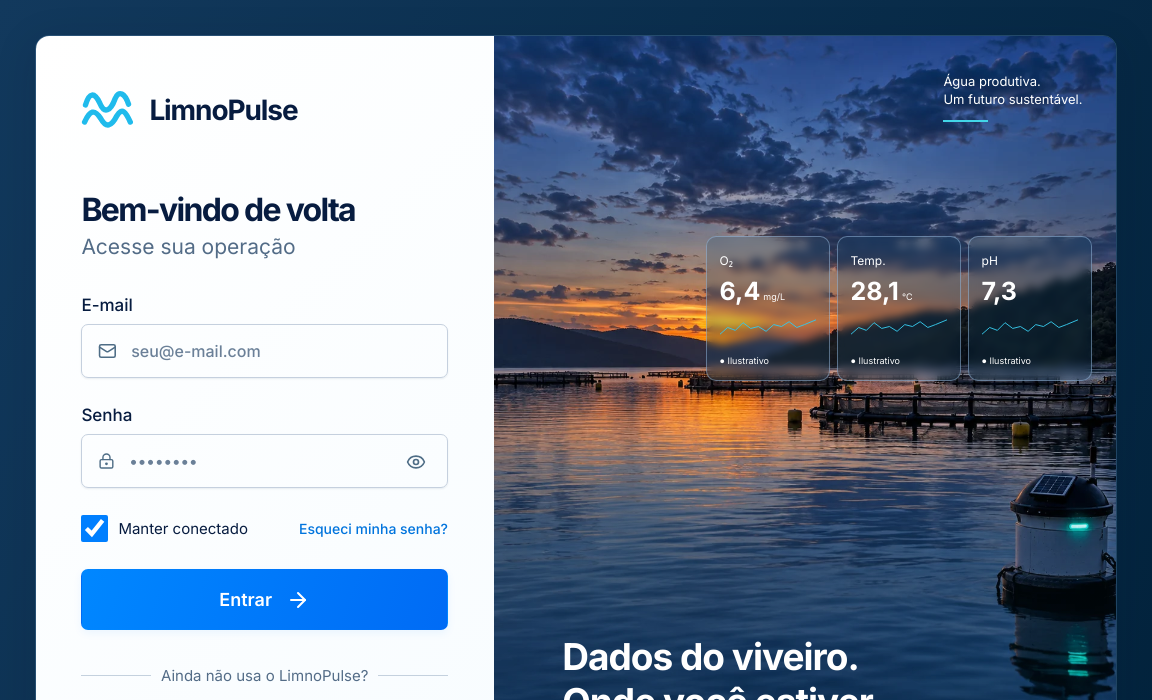
Test: recovers the password and confirms a new password without creating an account
The image size is (1152, 700).
Click the button "Esqueci minha senha?" at [374, 529], box [299,519,448,539]
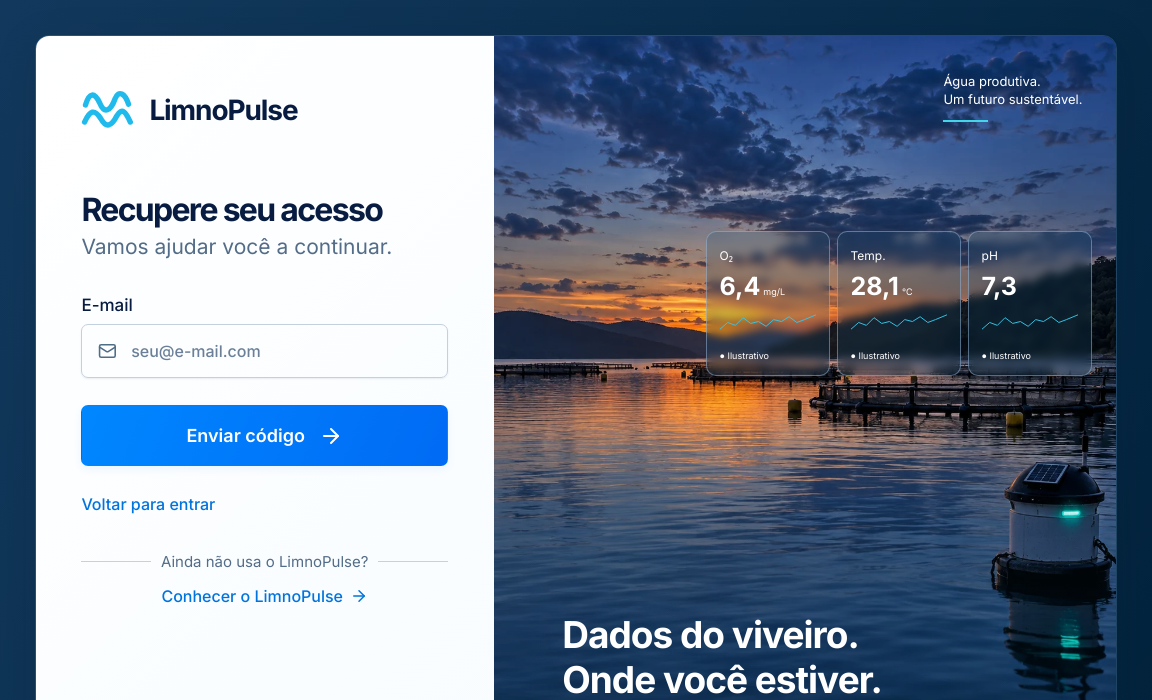
Type "maria@example.com" into the field labelled "E-mail" at [274, 351], box [117,325,431,377]
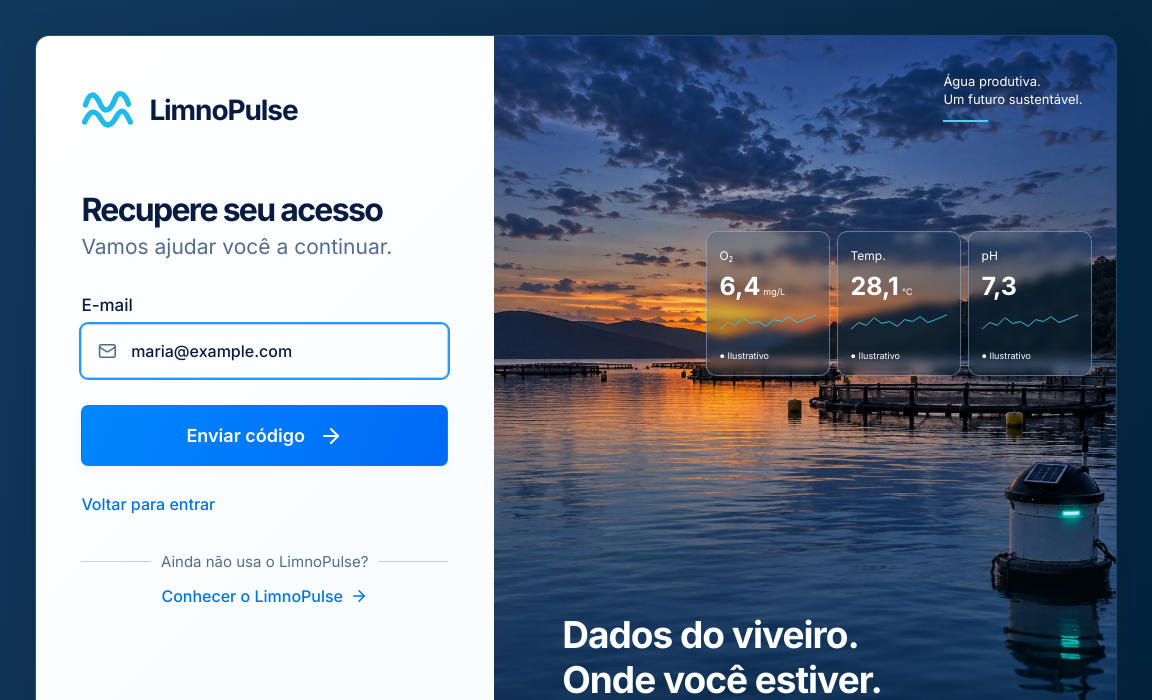
Click the button "Enviar código" at [265, 436], box [81,405,448,466]
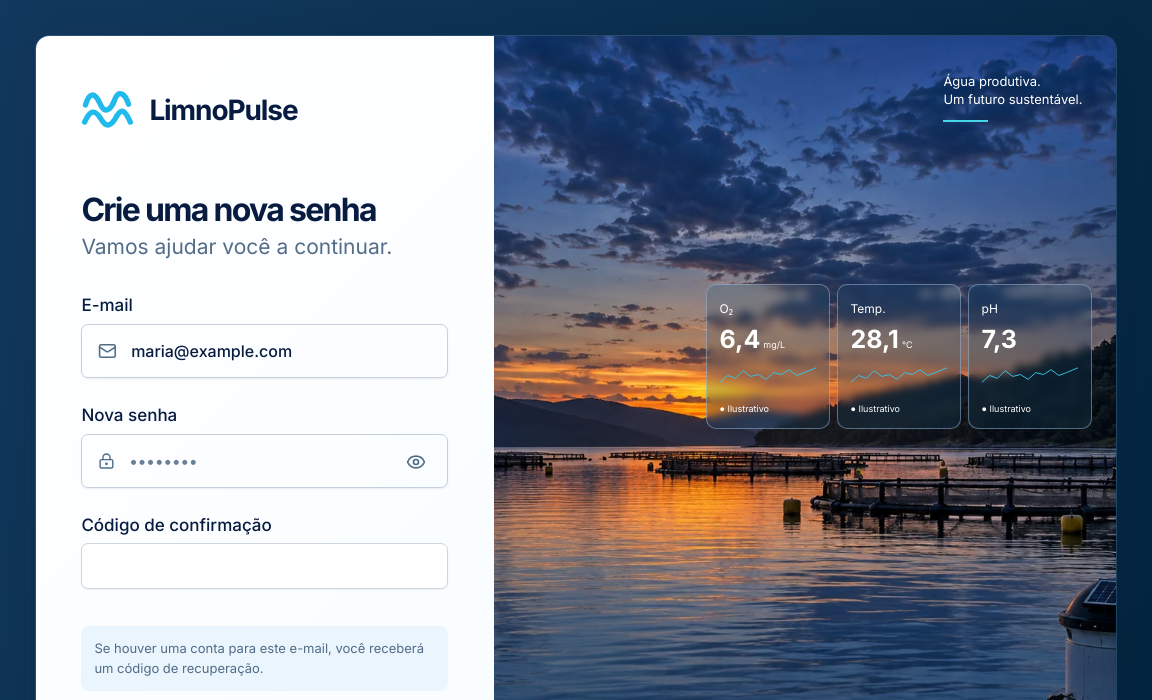
Type "123456" into the field labelled "Código de confirmação" at [265, 566], box [81,543,448,589]
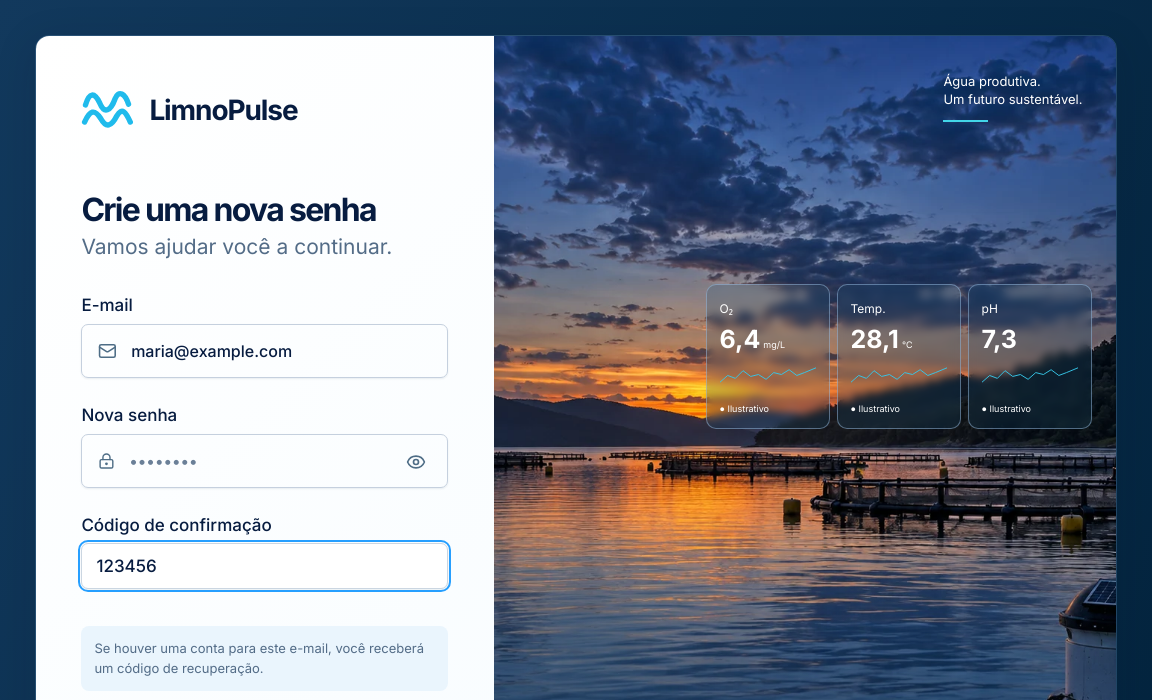
Type "NewStrongPass123!" into the password field labelled "Nova senha" at [258, 461], box [115,435,401,487]
(page scrolled)
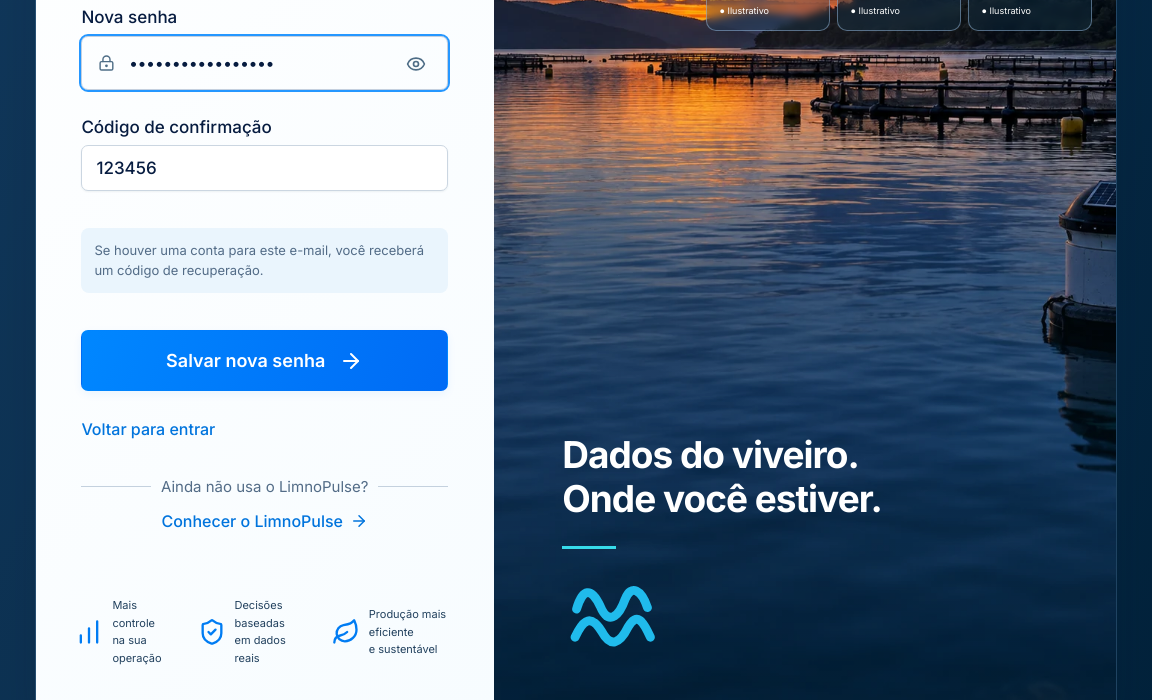
Click the button "Salvar nova senha" at [265, 361], box [81,330,448,391]
(page scrolled)
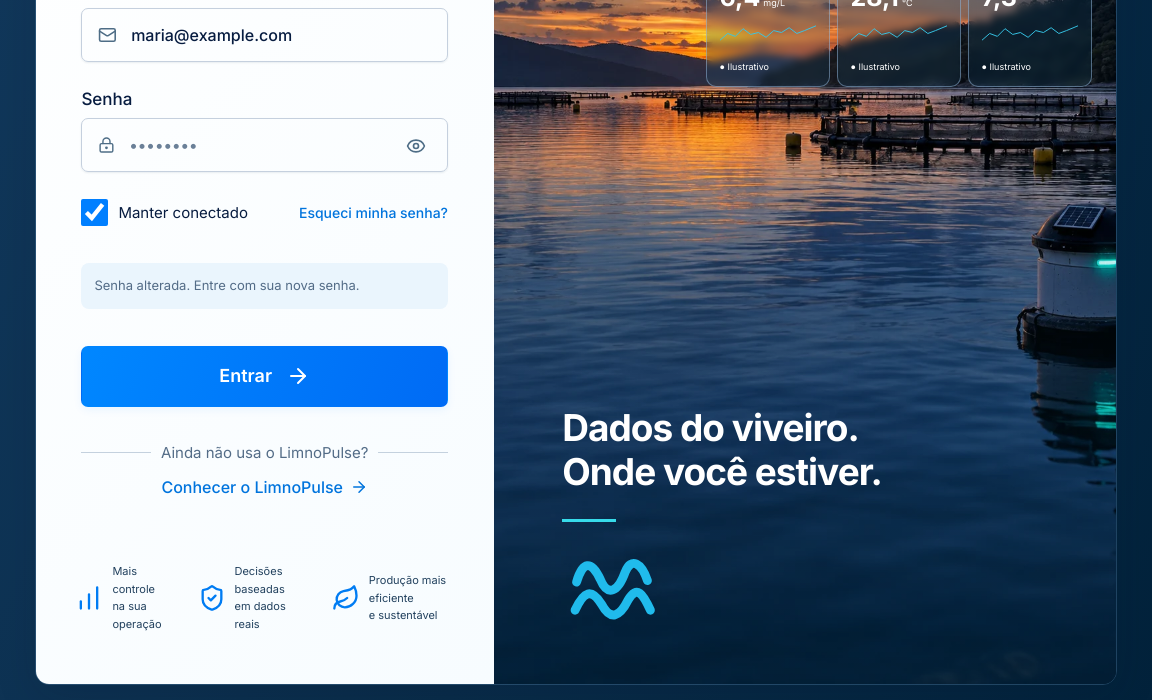
Check: the text "Senha alterada. Entre com sua nova senha." is shown, box [81,263,448,309]
